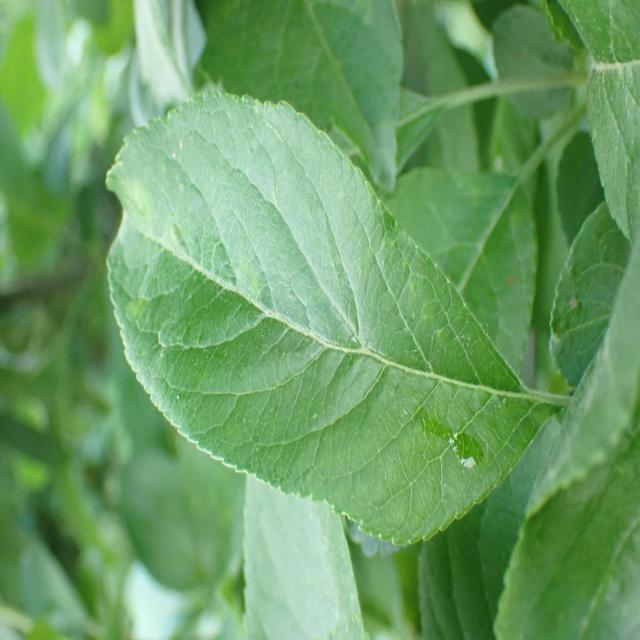scab: (101, 140, 348, 440)
